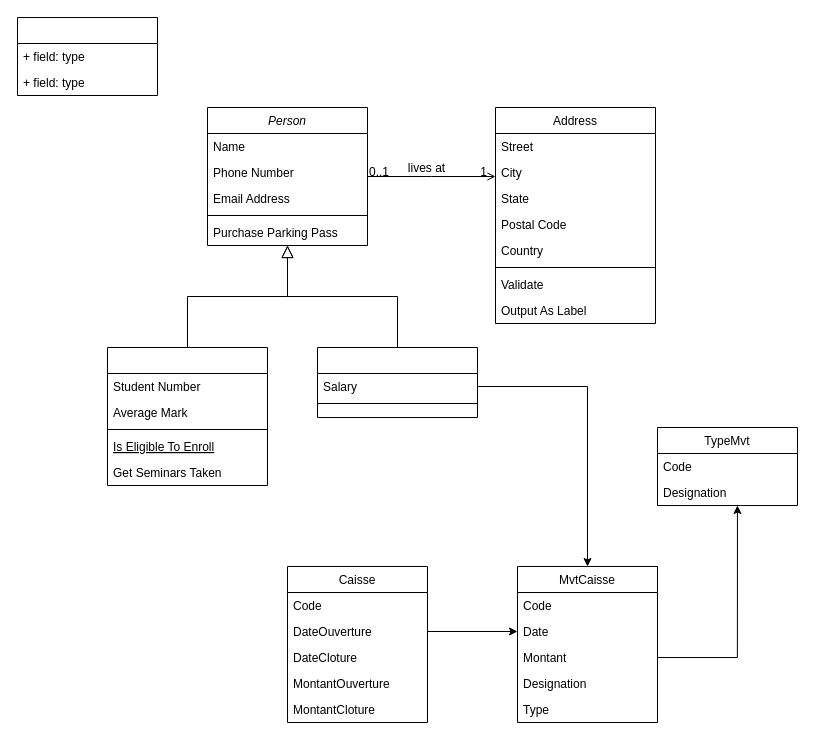
The diagram is 815 pixels wide and 743 high, and some of its shapes have lost their labels. Each missing label, with the box of its shape:
Client: (106, 346, 268, 486)
ERole: (16, 16, 158, 96)
Personnel: (316, 346, 478, 418)
